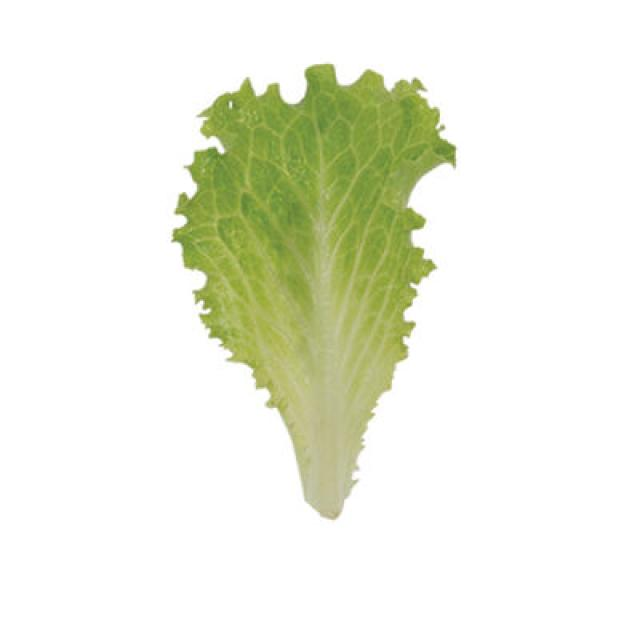lettuce: (170, 61, 456, 520)
